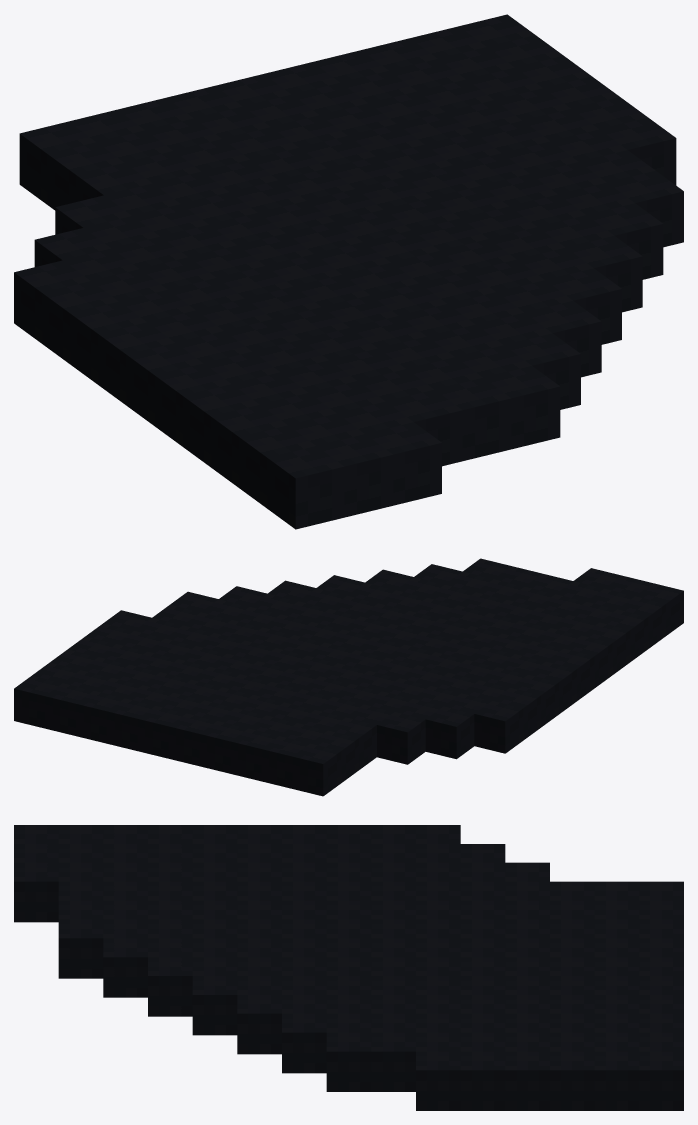
The model's file is CurvaPadrao.fbx.
3 renders of one model, top to bottom at view 1: azimuth 30°, elevation 25°; view 2: azimuth 150°, elevation 25°; view 3: azimuth 270°, elevation 25°, orthographic. The views are drawn at different scales.
Parts seen in each view (by area): view 1: Cube; view 2: Cube; view 3: Cube.
Boxes of the visible parts, x1,y1,x2,y2 form: Cube: (14, 14, 683, 529); Cube: (14, 558, 683, 796); Cube: (14, 825, 683, 1110).
Size of the model in its own units: 1300 by 100 by 1500.
1 material, 1 textured.
